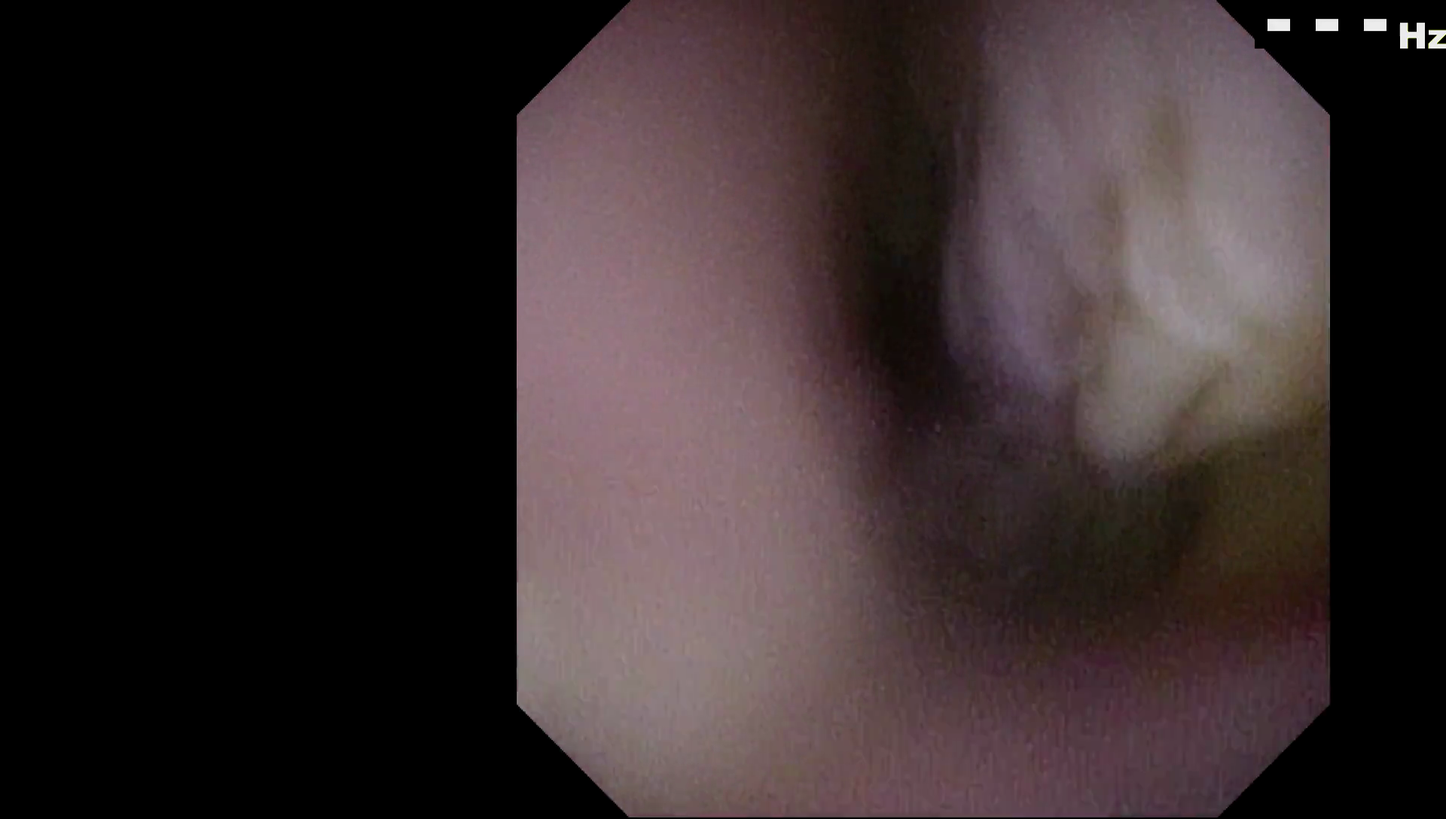close_wall: (521, 177, 886, 703)
next: (824, 40, 1028, 477), (980, 434, 1230, 642)
